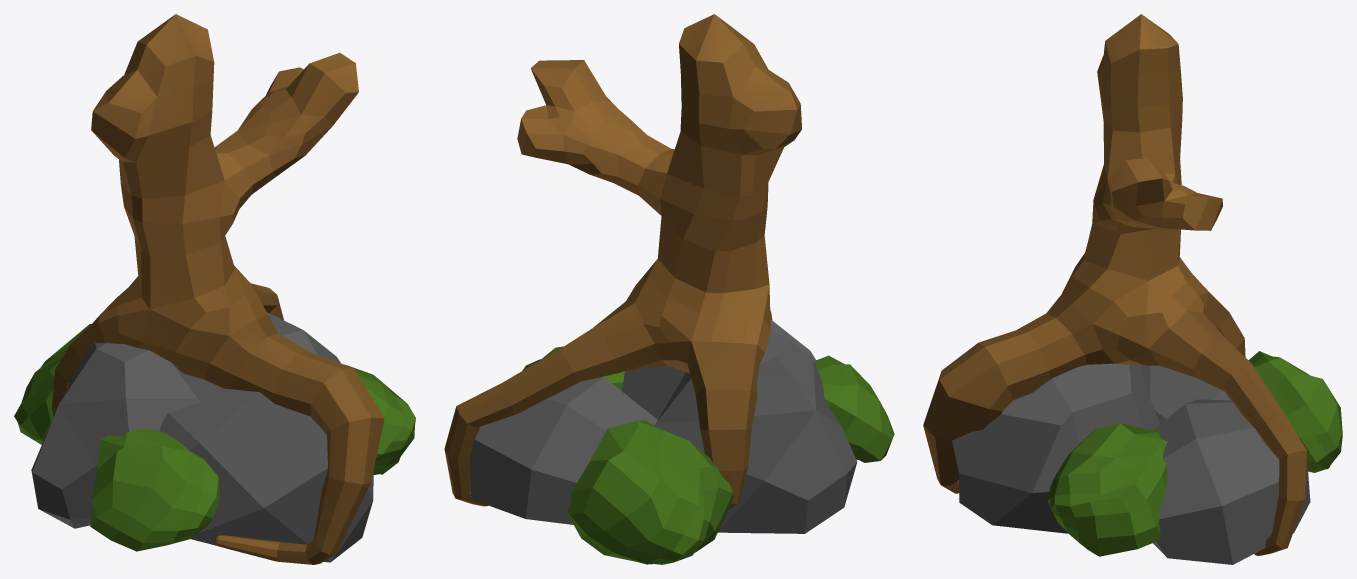
The model's file is 1StadiaTree.fbx.
3 renders of one model, left to right at view 1: azimuth 30°, elevation 25°; view 2: azimuth 150°, elevation 25°; view 3: azimuth 270°, elevation 25°, orthographic. The views are drawn at different scales.
Parts seen in each view (by area): view 1: Plane.002; view 2: Plane.002; view 3: Plane.002.
Part boxes in pixels (left/top/right/bottom): Plane.002: left=14, top=14, right=415, bottom=564; Plane.002: left=444, top=14, right=894, bottom=564; Plane.002: left=923, top=14, right=1342, bottom=564.
Size of the model in its own units: 72.81 by 99.8 by 79.18.
